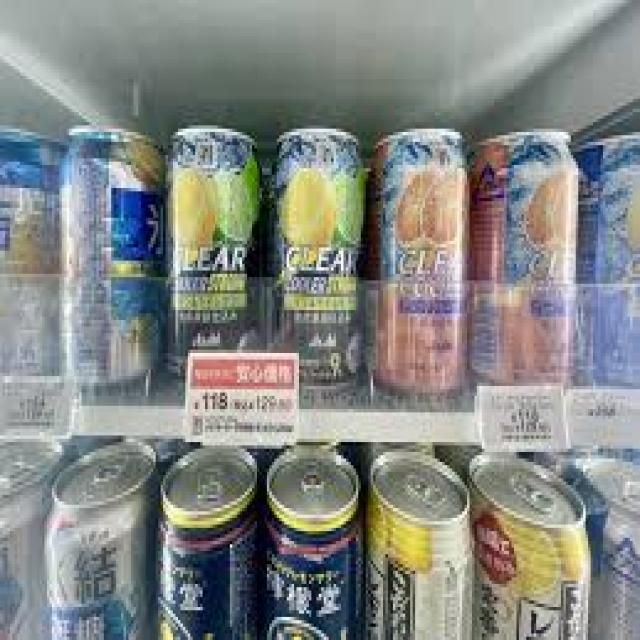Cans: (467, 122, 581, 386), (59, 119, 166, 386), (368, 125, 472, 392), (267, 115, 368, 386), (158, 122, 265, 373), (42, 439, 158, 640), (470, 455, 593, 637), (153, 439, 260, 640), (259, 448, 368, 640), (366, 452, 477, 640)
